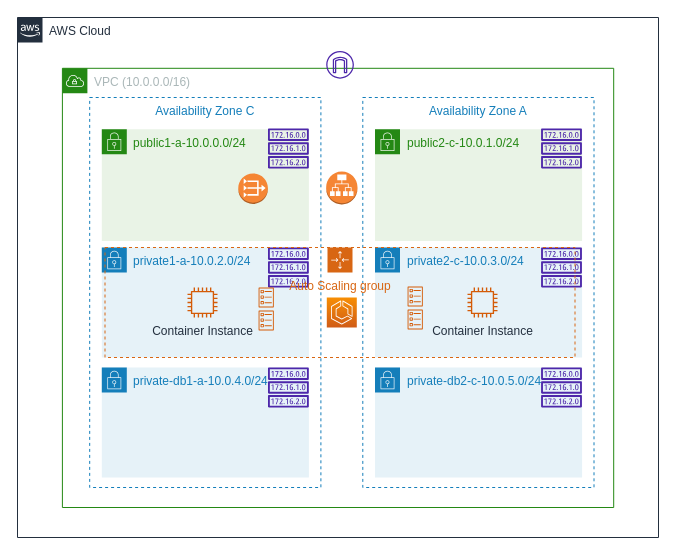
Some shapes in this 676 by 555 pixel diagram are drawn without their labels. The centre of each missing label's shape, as x and y in pixels:
"ALB" belongs at (341,187).
"ECS" belongs at (341,312).
"NAT" belongs at (252,188).
